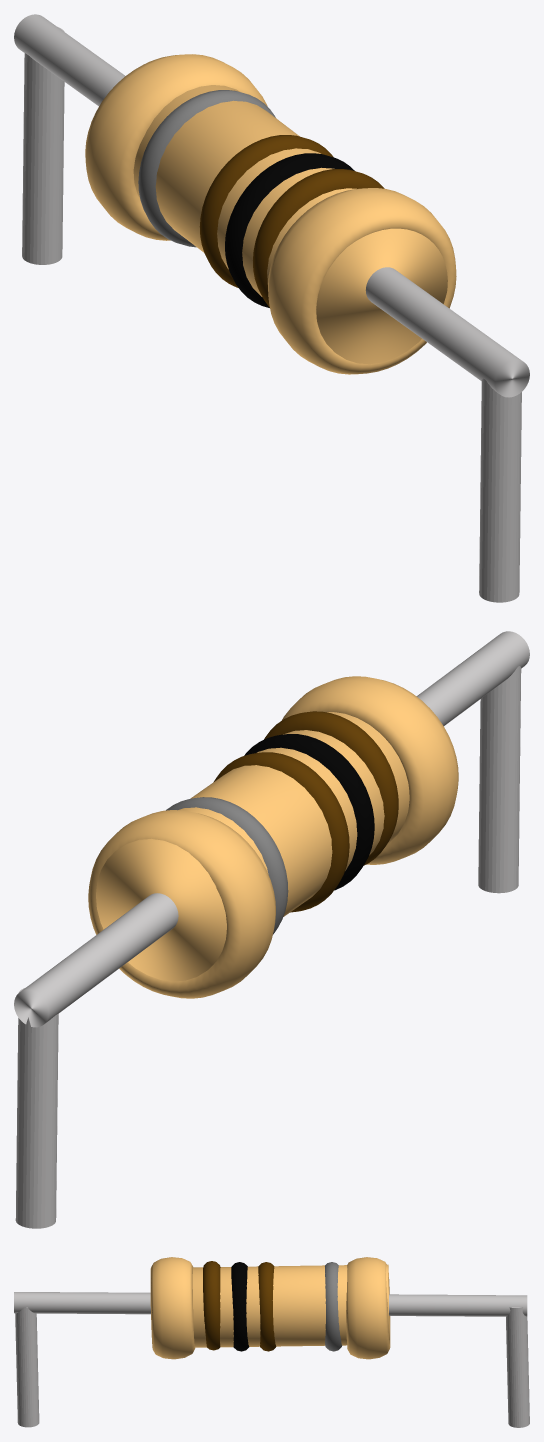
File: Resistor 100.fbx
The picture shows the model from 3 angles, top to bottom: view 1: azimuth 30°, elevation 25°; view 2: azimuth 150°, elevation 25°; view 3: azimuth 270°, elevation 25°; orthographic projection. The views are drawn at different scales.
Visible parts, largest first — view 1: Torus.001, Cylinder.001, Cylinder.002, Cylinder.004; view 2: Torus.001, Cylinder.001, Cylinder.002, Cylinder.004; view 3: Torus.001, Cylinder.001, Cylinder.004, Cylinder.002.
Part boxes in pixels (left/top/right/bottom): Torus.001: left=85, top=54, right=456, bottom=374; Cylinder.001: left=14, top=14, right=529, bottom=397; Cylinder.002: left=479, top=378, right=521, bottom=602; Cylinder.004: left=22, top=27, right=64, bottom=264; Torus.001: left=88, top=676, right=458, bottom=998; Cylinder.001: left=14, top=631, right=529, bottom=1027; Cylinder.002: left=478, top=666, right=521, bottom=893; Cylinder.004: left=15, top=988, right=58, bottom=1228; Torus.001: left=150, top=1257, right=390, bottom=1359; Cylinder.001: left=14, top=1292, right=527, bottom=1316; Cylinder.004: left=506, top=1307, right=529, bottom=1427; Cylinder.002: left=15, top=1307, right=39, bottom=1427.
Size of the model in its own units: 147 by 247 by 719.
